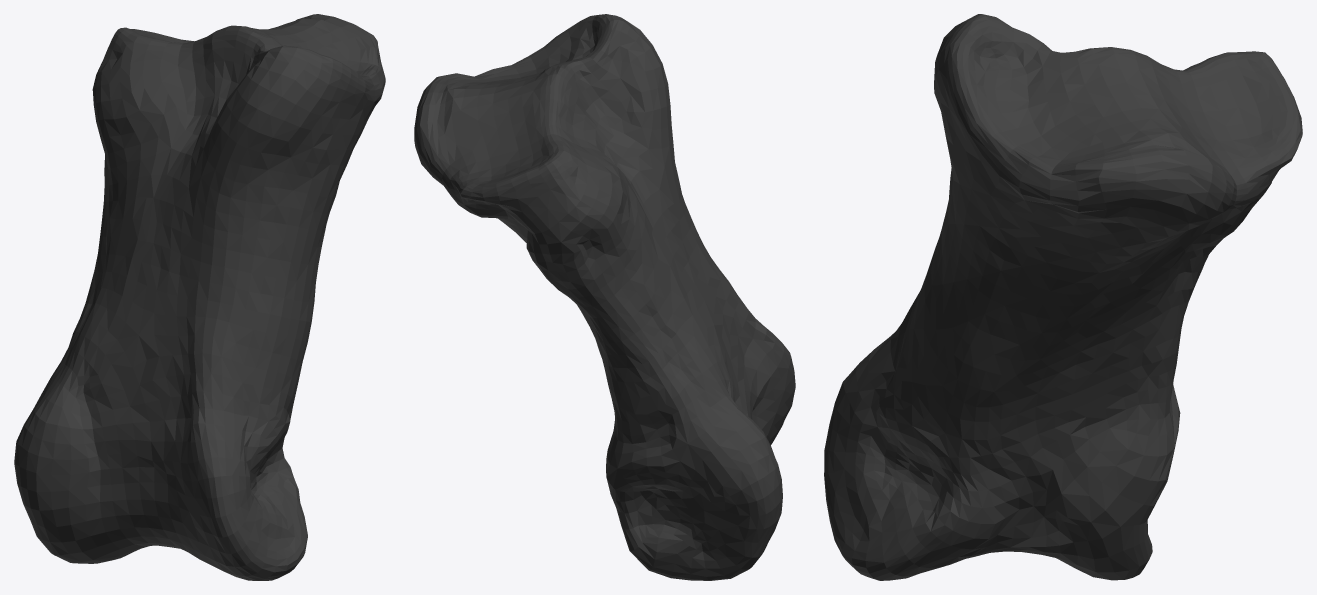
File: middle_phalanx_V_L.glb
3 views of the same model, side by side, from view 1: azimuth 30°, elevation 25°; view 2: azimuth 150°, elevation 25°; view 3: azimuth 270°, elevation 25° (orthographic). The views are drawn at different scales.
Parts seen in each view (by area): view 1: middle_phalanx_V_L; view 2: middle_phalanx_V_L; view 3: middle_phalanx_V_L.
Part boxes in pixels (box(x1,y1,x2,y2)): middle_phalanx_V_L: box(14, 14, 385, 580); middle_phalanx_V_L: box(414, 14, 795, 580); middle_phalanx_V_L: box(824, 14, 1302, 580).
Bounding box in the file's own units: 0.0173 × 0.0239 × 0.0165.
1 material, 1 textured.
